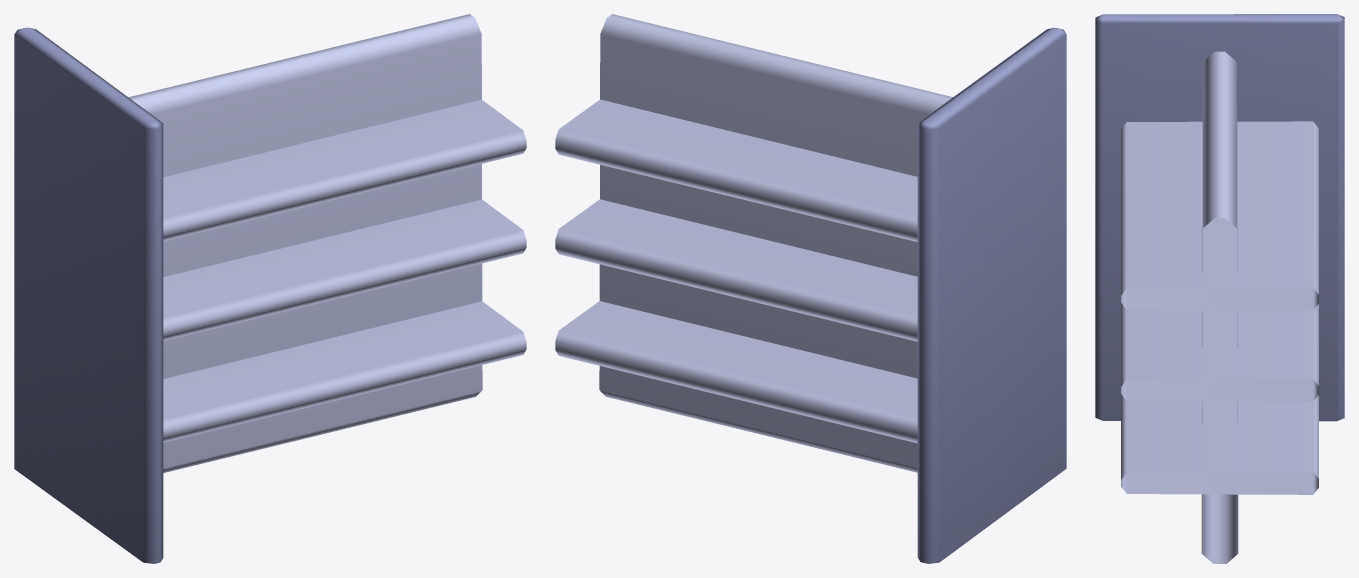
The model's file is Shelf_02.fbx.
The picture shows the model from 3 angles, left to right: view 1: azimuth 30°, elevation 25°; view 2: azimuth 150°, elevation 25°; view 3: azimuth 270°, elevation 25°; orthographic projection. The views are drawn at different scales.
Parts seen in each view (by area): view 1: Shelf_02; view 2: Shelf_02; view 3: Shelf_02.
Boxes of the visible parts, x1=… form: Shelf_02: x1=14, y1=14, x2=526, y2=563; Shelf_02: x1=555, y1=14, x2=1066, y2=563; Shelf_02: x1=1095, y1=14, x2=1344, y2=563.
Bounding box in the file's own units: 186 × 198 × 112.
